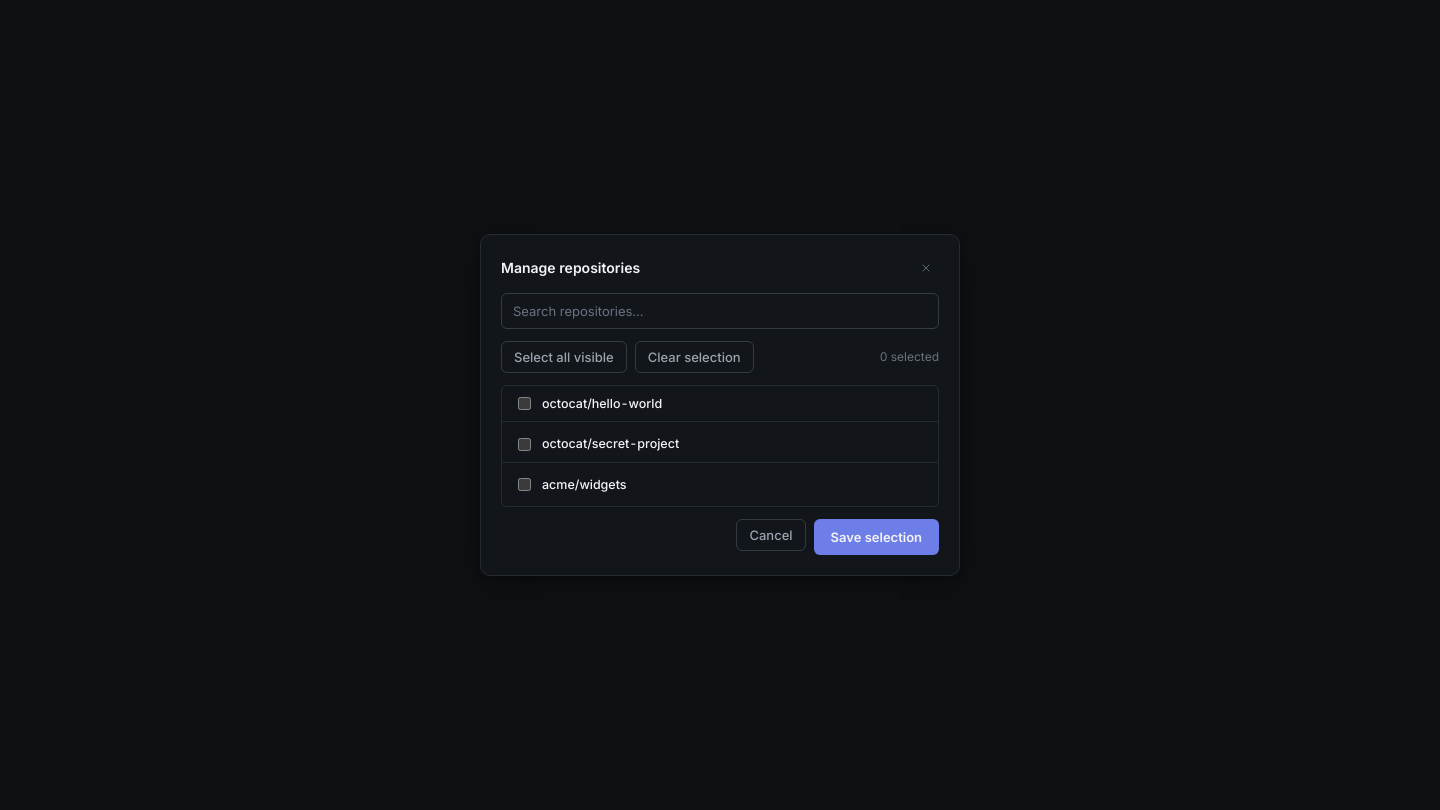
Test case: RepositorySelector › filters the list by search text
Type "acme" into the field labelled "Search repositories" at (720, 311), box [501,293,939,329]
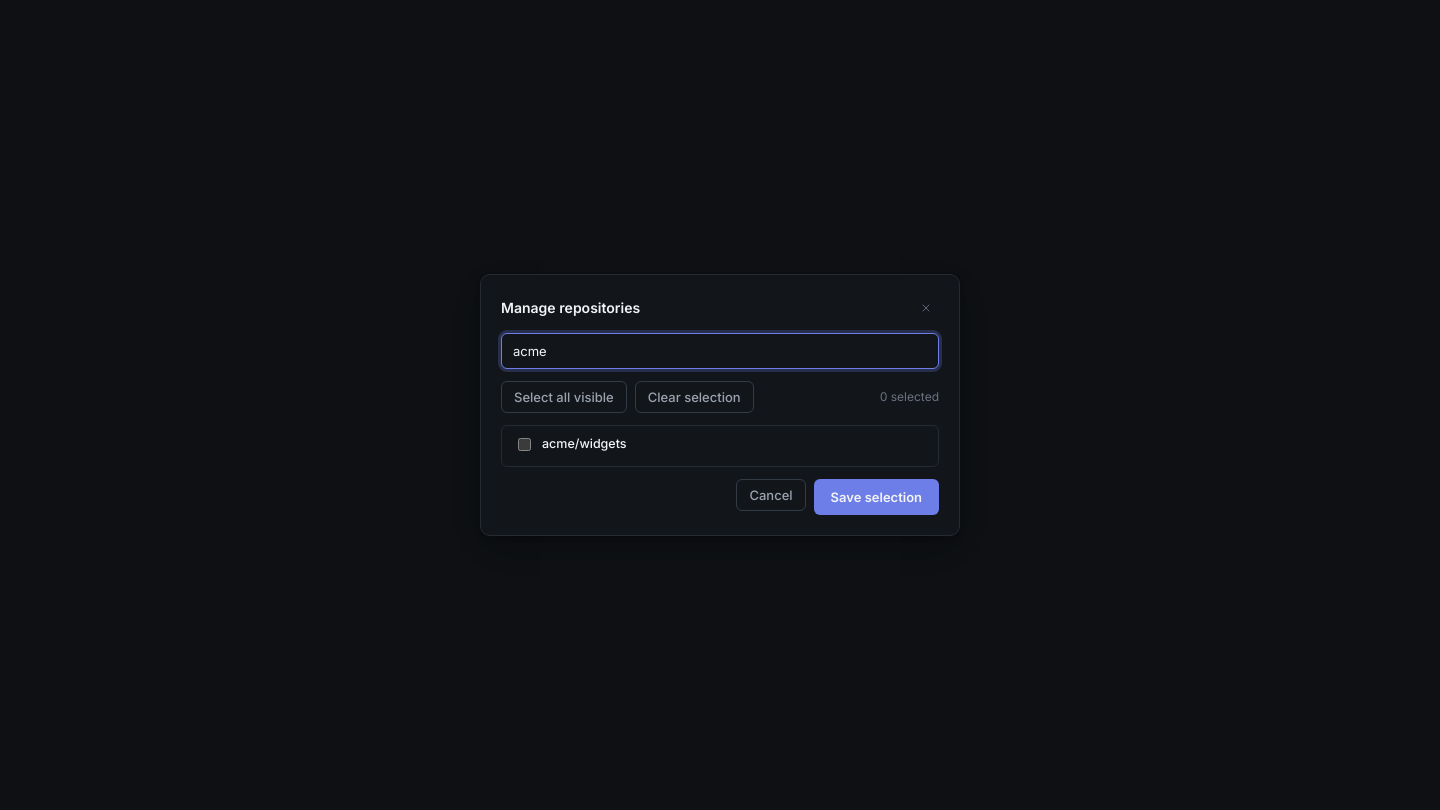
expect the text "acme/widgets" is shown: met, box [542,434,627,454]
expect the text "octocat/hello-world" is gone: met
